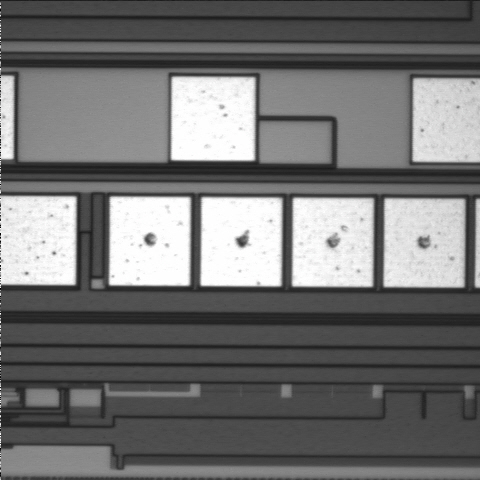pad: (109, 197, 191, 286), (200, 197, 282, 286), (292, 198, 373, 287), (384, 199, 465, 287), (171, 77, 255, 161)
